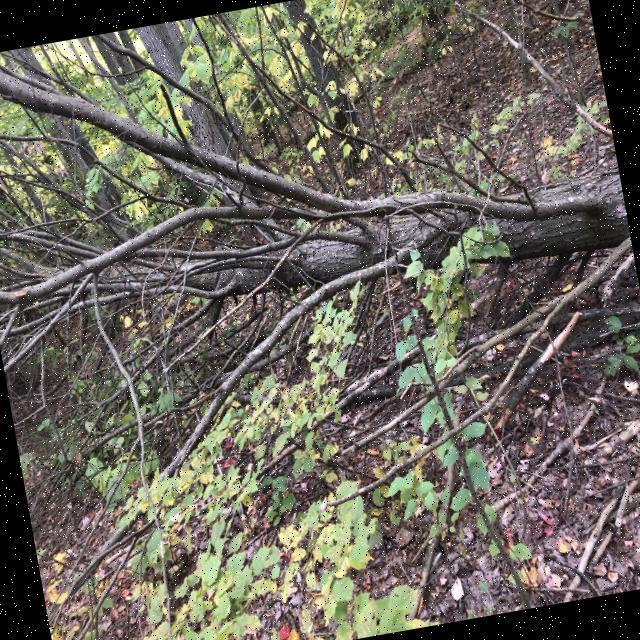fallen_object: (0, 134, 634, 371)
